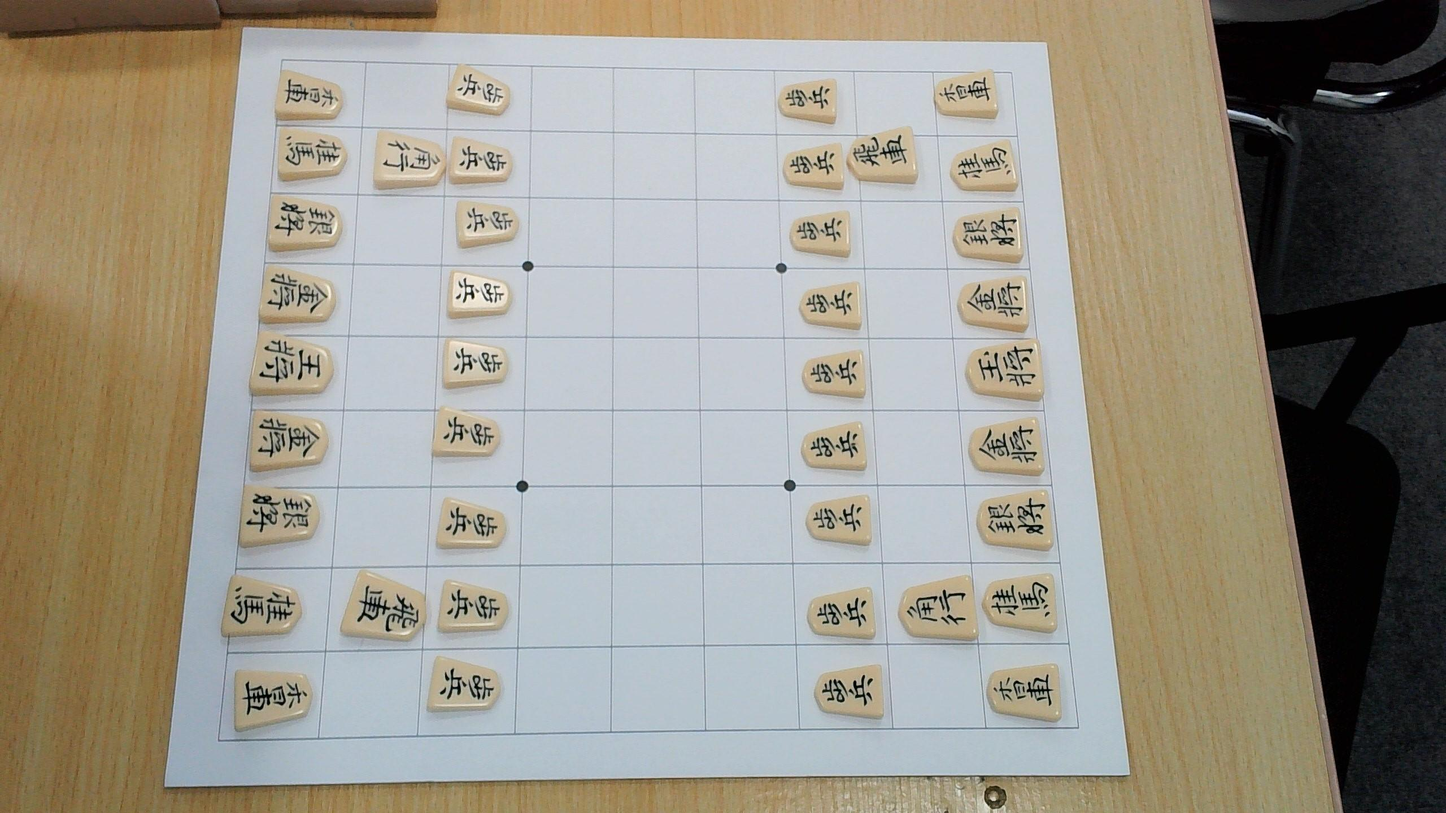board: (219, 59, 1078, 742)
